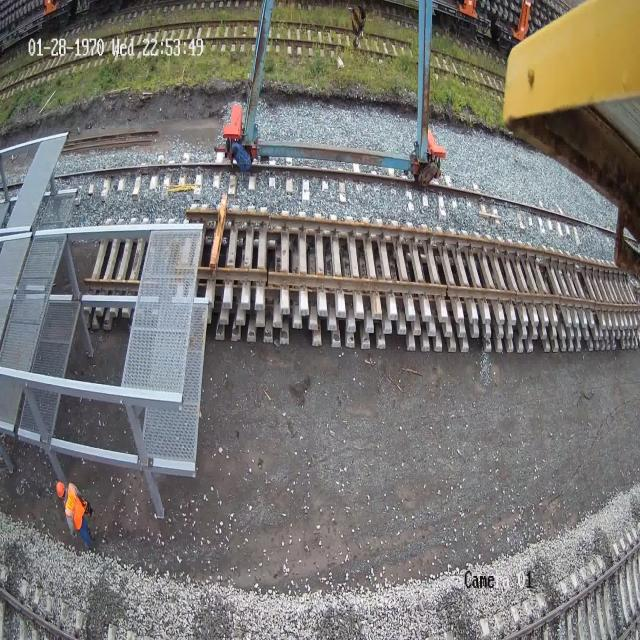Person: (55, 480, 94, 550)
